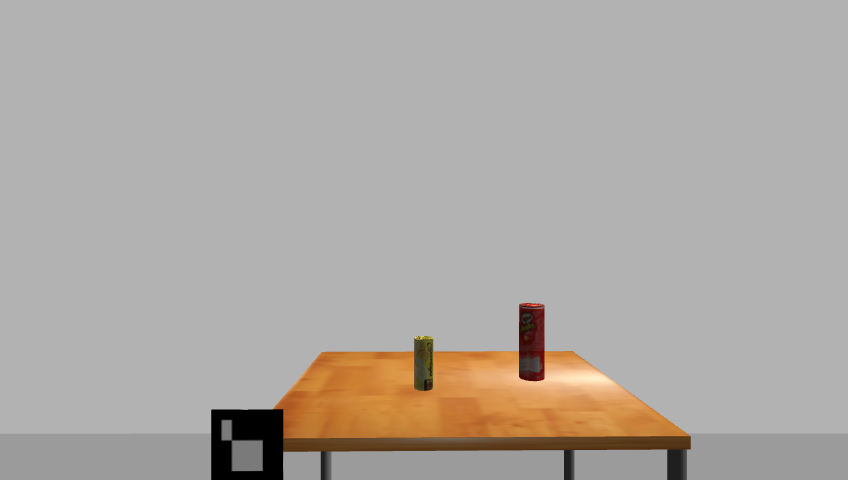aruco marker: (206, 408, 289, 478)
biscuits pack: (413, 334, 436, 393)
dinner table: (238, 342, 695, 480)
pringles can: (513, 303, 554, 384)
